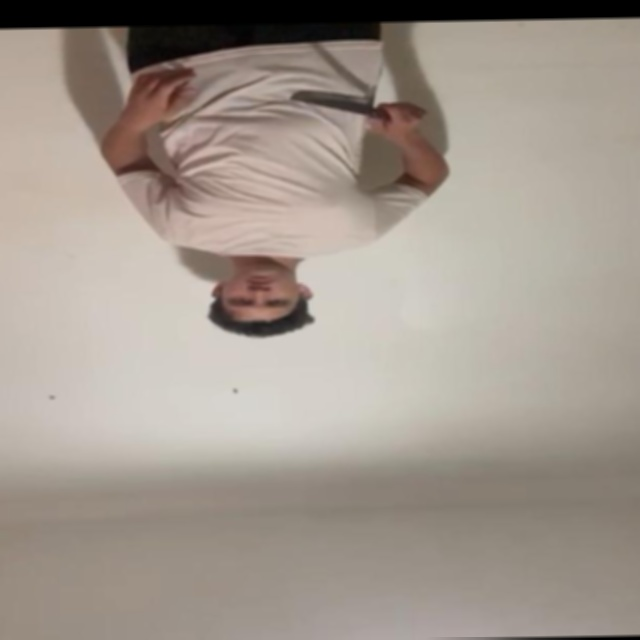Sharp-Object: (291, 88, 370, 120)
